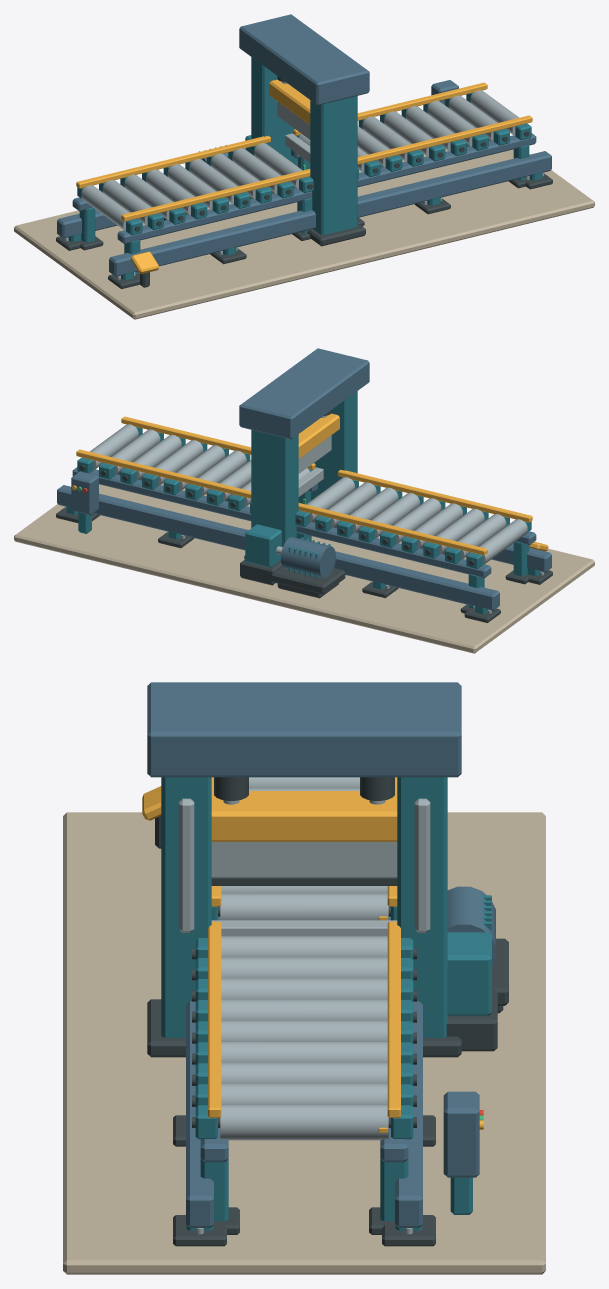
The model's file is CS-WIRE-05-lod2.glb.
3 renders of one model, top to bottom at view 1: azimuth 30°, elevation 25°; view 2: azimuth 150°, elevation 25°; view 3: azimuth 270°, elevation 25°, orthographic. The views are drawn at different scales.
Parts seen in each view (by area): view 1: foundation, right_bed_beam, shear_crown, right_column, left_column, entry_table_right_sill, exit_table_right_sill, entry_table_right_guard, entry_table_left_guard, exit_table_right_guard, exit_table_left_guard, blade_holder (+22 smaller); view 2: foundation, left_bed_beam, shear_crown, left_column, right_column, entry_table_left_sill, exit_table_left_sill, motor_housing, entry_table_left_guard, entry_table_right_guard, exit_table_left_guard, right_angle_gearbox (+25 smaller); view 3: foundation, shear_crown, right_column, left_column, blade_holder, upper_blade, exit_table_idler_8, entry_table_idler_8, right_angle_gearbox, exit_table_idler_0, exit_table_idler_1, exit_table_idler_2 (+28 smaller).
Part boxes in pixels (<box>): foundation: <box>14,149,594,319</box>; right_bed_beam: <box>109,151,551,276</box>; shear_crown: <box>239,14,369,105</box>; right_column: <box>310,96,357,235</box>; left_column: <box>251,57,297,166</box>; entry_table_right_sill: <box>117,188,312,244</box>; exit_table_right_sill: <box>357,133,536,187</box>; entry_table_right_guard: <box>121,169,310,221</box>; entry_table_left_guard: <box>76,135,270,188</box>; exit_table_right_guard: <box>357,115,532,164</box>; exit_table_left_guard: <box>293,82,487,135</box>; blade_holder: <box>269,79,310,124</box>; foundation: <box>14,483,594,653</box>; left_bed_beam: <box>57,485,499,610</box>; shear_crown: <box>239,348,369,439</box>; left_column: <box>251,430,298,546</box>; right_column: <box>311,391,357,500</box>; entry_table_left_sill: <box>296,522,491,578</box>; exit_table_left_sill: <box>72,467,251,521</box>; motor_housing: <box>281,537,335,577</box>; entry_table_left_guard: <box>298,503,487,555</box>; entry_table_right_guard: <box>338,469,532,522</box>; exit_table_left_guard: <box>76,449,251,498</box>; right_angle_gearbox: <box>245,524,281,567</box>; foundation: <box>63,812,545,1274</box>; shear_crown: <box>147,682,461,777</box>; right_column: <box>161,777,211,1037</box>; left_column: <box>397,777,447,1037</box>; blade_holder: <box>211,791,397,841</box>; upper_blade: <box>211,842,397,877</box>; exit_table_idler_8: <box>220,1104,388,1140</box>; entry_table_idler_8: <box>220,893,388,920</box>; right_angle_gearbox: <box>447,932,491,1015</box>; exit_table_idler_0: <box>221,936,387,957</box>; exit_table_idler_1: <box>221,957,387,978</box>; exit_table_idler_2: <box>221,978,387,999</box>.
Bounding box in the file's own units: 9.5 × 3.4 × 4.3.
